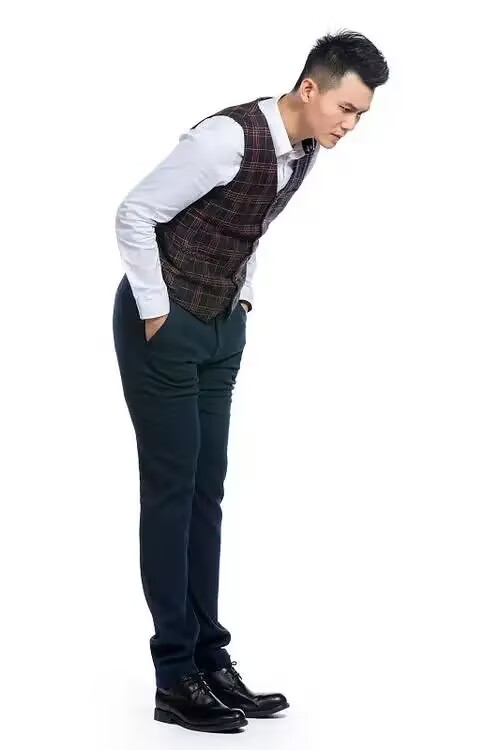bending: (68, 24, 413, 737)
